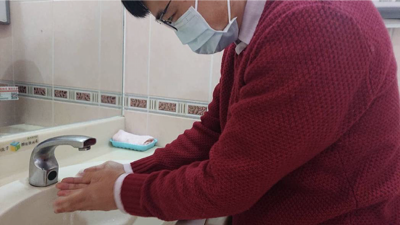with_mask: (151, 1, 242, 57)
